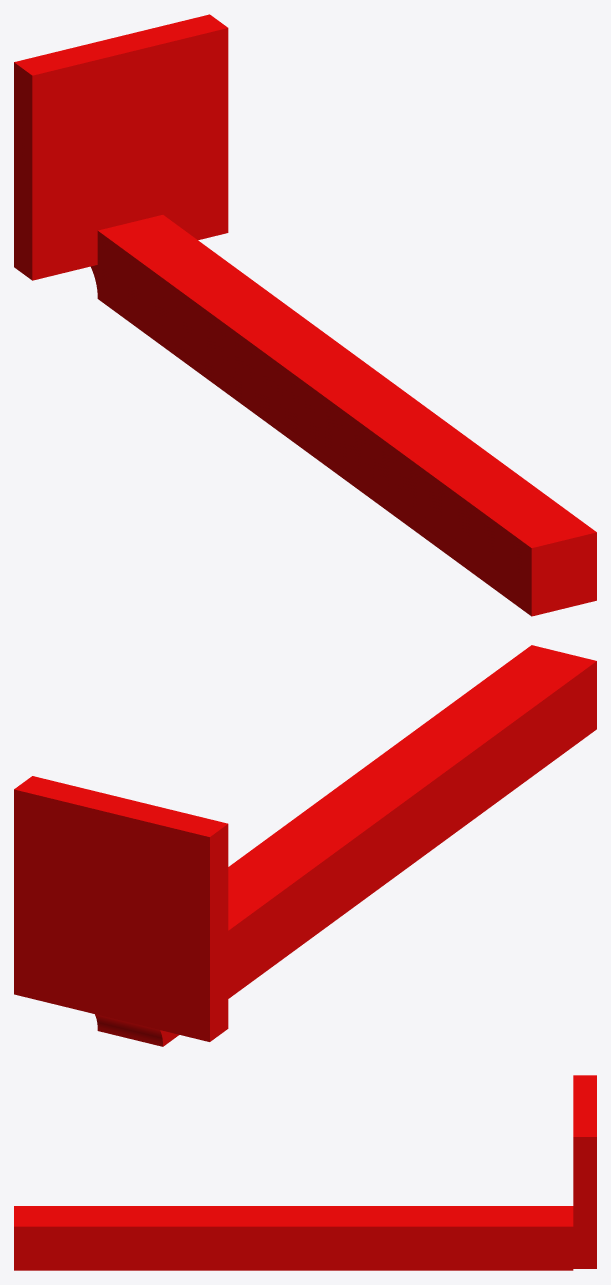
File: hoe2.obj
3 views of the same model, one above another, from view 1: azimuth 30°, elevation 25°; view 2: azimuth 150°, elevation 25°; view 3: azimuth 270°, elevation 25° (orthographic). The views are drawn at different scales.
Visible parts, largest first — view 1: Mesh1 Model; view 2: Mesh1 Model; view 3: Mesh1 Model.
Part boxes in pixels (x1=…): Mesh1 Model: x1=14, y1=14, x2=596, y2=616; Mesh1 Model: x1=14, y1=645, x2=596, y2=1046; Mesh1 Model: x1=14, y1=1075, x2=596, y2=1270.
Bounding box in the file's own units: 0.06 × 0.07 × 0.24.
